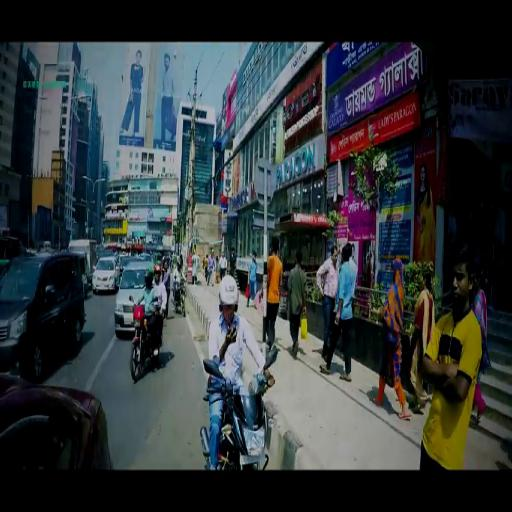car: (115, 259, 154, 336), (91, 255, 120, 292)
minivan: (1, 251, 86, 378)
motorbike: (199, 356, 274, 467), (129, 292, 164, 381), (172, 280, 188, 315)
